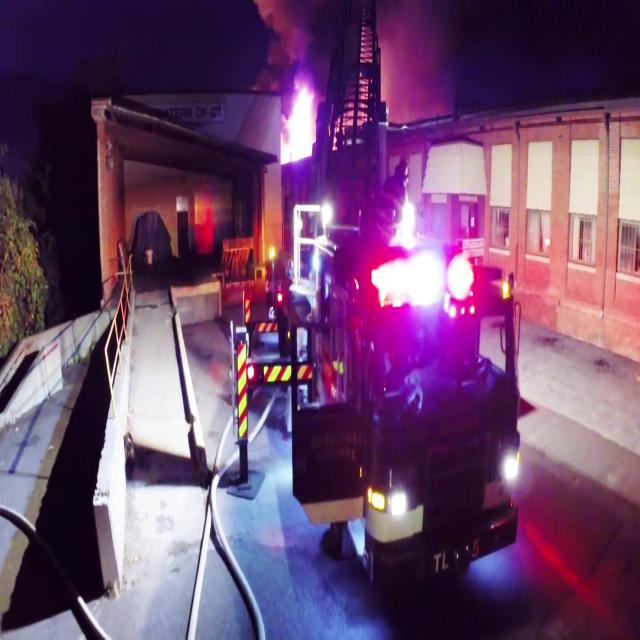Fire: (279, 87, 315, 166)
Smoke: (253, 0, 462, 117)
